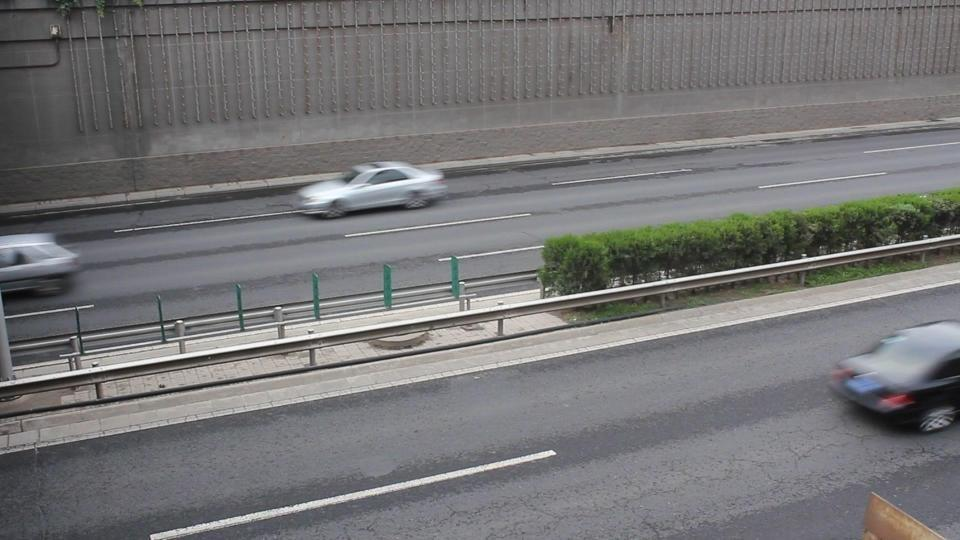car: (830, 320, 960, 434), (295, 161, 450, 218), (0, 234, 82, 297)
